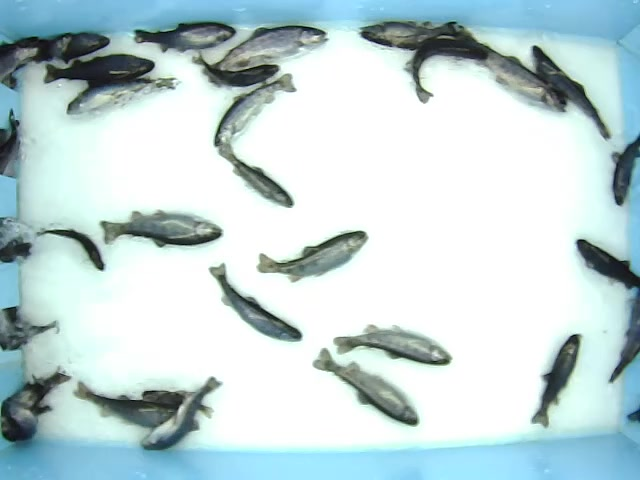fish: (454, 28, 570, 116), (310, 346, 421, 427), (530, 44, 614, 143), (201, 23, 328, 86), (208, 262, 303, 343), (139, 374, 225, 452), (73, 378, 191, 434), (213, 71, 299, 147), (256, 227, 368, 284), (401, 38, 489, 106), (528, 332, 584, 432), (214, 143, 295, 210), (99, 207, 223, 249), (333, 324, 453, 367), (65, 75, 187, 117), (42, 52, 156, 85), (191, 50, 283, 89), (132, 21, 238, 54), (34, 226, 107, 273), (357, 20, 460, 51), (140, 389, 214, 421)
